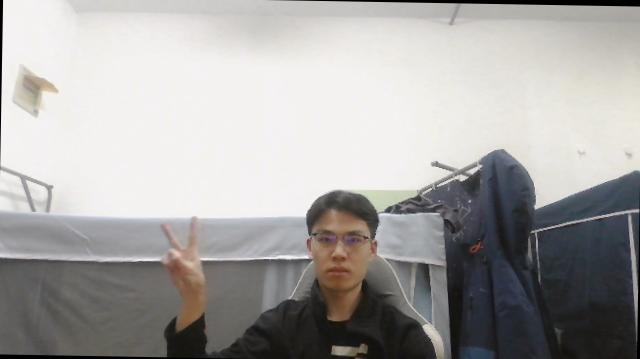two: (154, 214, 208, 300)
